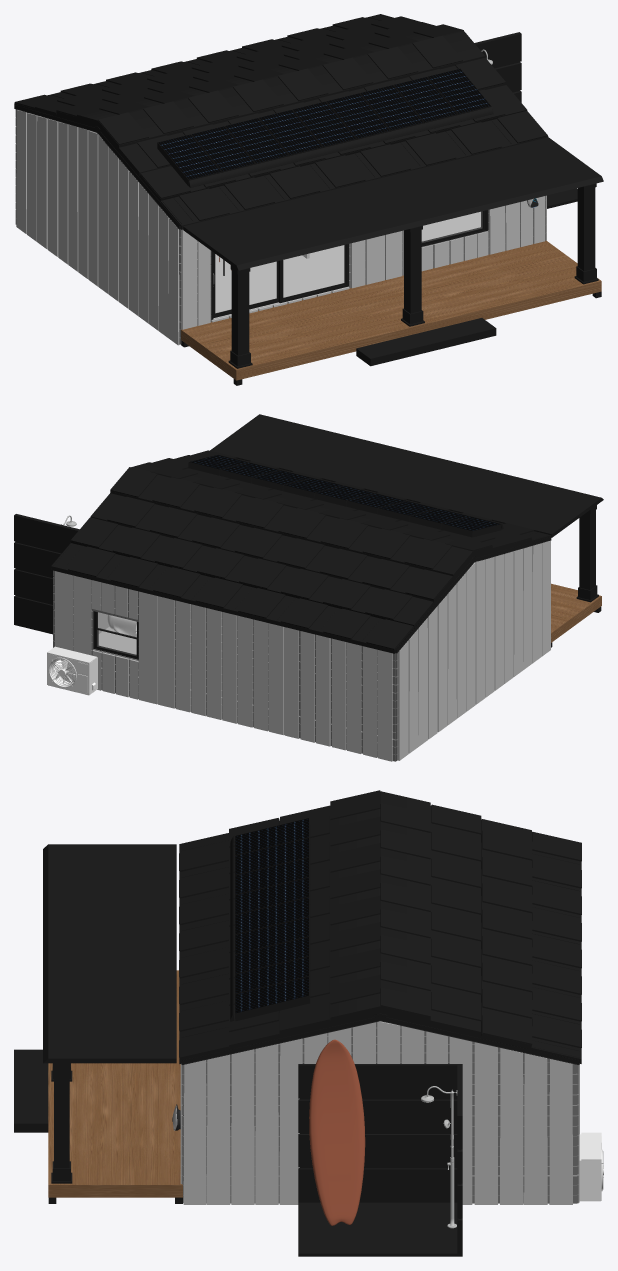
The model's file is 600Sqft.glb.
3 views of the same model, one above another, from view 1: azimuth 30°, elevation 25°; view 2: azimuth 150°, elevation 25°; view 3: azimuth 270°, elevation 25° (orthographic). The views are drawn at different scales.
Parts seen in each view (by area): view 1: Asphalt_Roof, Vertical_Wall_Pattern, Wooden_Base, Frontal_Roof, Pillars, House_Base, Wooden_Step, Solar_Holder, Glass01, Shower_BAse, Glass02, polySurface7084 (+16 smaller); view 2: Vertical_Wall_Pattern, Asphalt_Roof, Frontal_Roof, Shower_BAse, Horizontal_Wall_Pattern, polySurface7084, Wooden_Base, Pillars, Ac_Outer_Shield, polySurface7074, Metal_Roof_Base, House_Base (+11 smaller); view 3: Asphalt_Roof, Vertical_Wall_Pattern, Frontal_Roof, Shower_BAse, Wooden_Base, Board, Horizontal_Wall_Pattern, Wooden_Step, polySurface7084, Pillars, Metal_Roof_Base, Metal_Roof_Sheet (+12 smaller).
Boxes of the visible parts, x1,y1,x2,y2 form: Asphalt_Roof: (14,14,547,229); Vertical_Wall_Pattern: (16,110,546,345); Wooden_Base: (181,240,601,380); Frontal_Roof: (183,137,603,270); Pillars: (228,183,598,368); House_Base: (215,211,480,313); Wooden_Step: (356,318,496,366); Solar_Holder: (188,107,493,187); Glass01: (283,245,344,297); Shower_BAse: (474,32,577,208); Glass02: (215,254,276,312); polySurface7084: (157,68,491,185); Vertical_Wall_Pattern: (55,540,550,761); Asphalt_Roof: (51,450,551,653); Frontal_Roof: (210,414,603,537); Shower_BAse: (14,514,79,634); Horizontal_Wall_Pattern: (53,570,398,761); polySurface7084: (188,455,501,537); Wooden_Base: (551,583,601,642); Pillars: (576,505,598,602); Ac_Outer_Shield: (47,653,97,695); polySurface7074: (97,612,136,655); Metal_Roof_Base: (51,537,551,653); House_Base: (98,627,136,654); Asphalt_Roof: (179,790,581,1063); Vertical_Wall_Pattern: (180,1021,579,1204); Frontal_Roof: (43,844,176,1063); Shower_BAse: (298,1063,462,1256); Wooden_Base: (48,970,182,1197); Board: (309,1039,365,1225); Horizontal_Wall_Pattern: (181,1022,578,1203); Wooden_Step: (14,1049,48,1132); polySurface7084: (234,818,310,1021); Pillars: (51,1063,72,1183); Metal_Roof_Base: (181,1017,579,1064); Metal_Roof_Sheet: (181,833,579,1060).
Bounding box in the file's own units: 0.1228 × 0.0425 × 0.114.
Materials: 15 (3 with a texture image).
